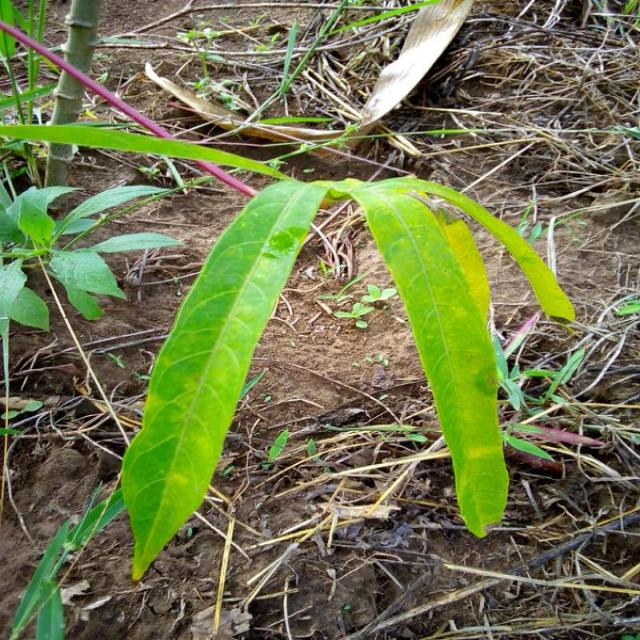cassava leaf: (120, 177, 330, 582), (350, 177, 512, 538)
